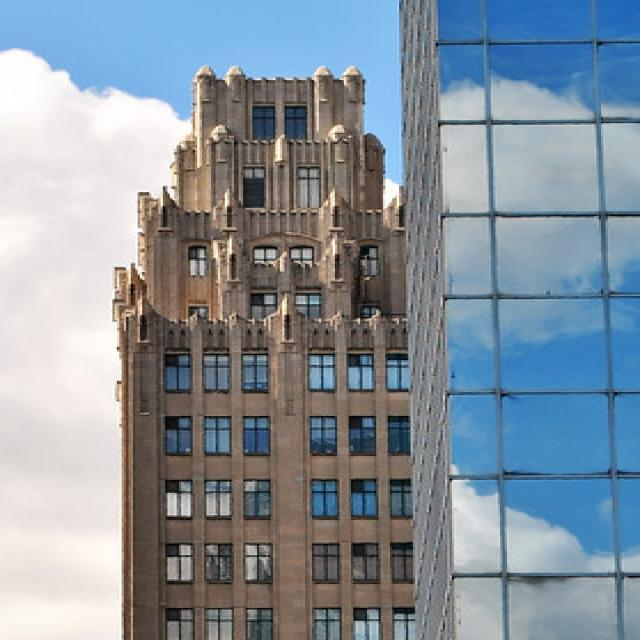Normal_building: (101, 64, 436, 640)
